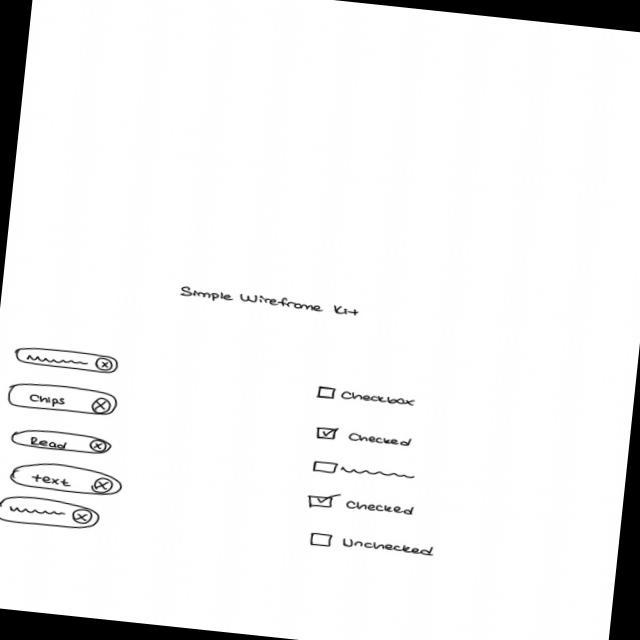checkbox: (308, 528, 436, 558), (304, 488, 416, 518), (310, 458, 418, 484), (313, 384, 417, 409), (313, 424, 415, 449)
label: (178, 283, 361, 318)
